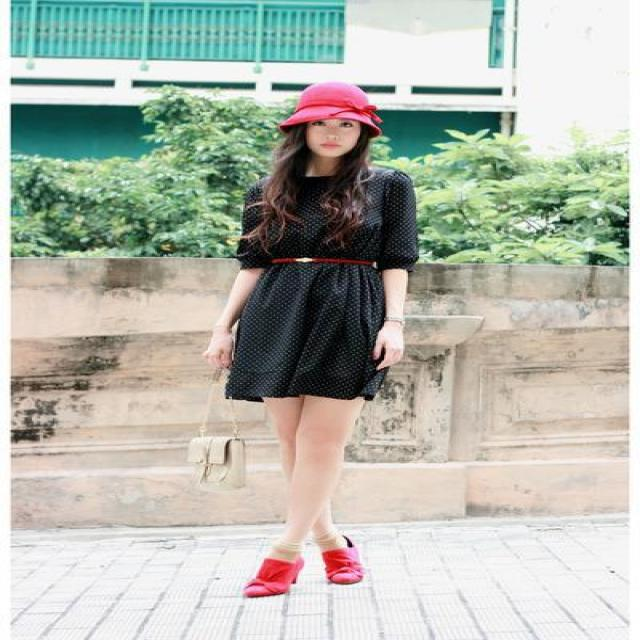dress: (226, 166, 440, 401)
hat: (288, 85, 386, 127)
shoe: (250, 550, 363, 598)
